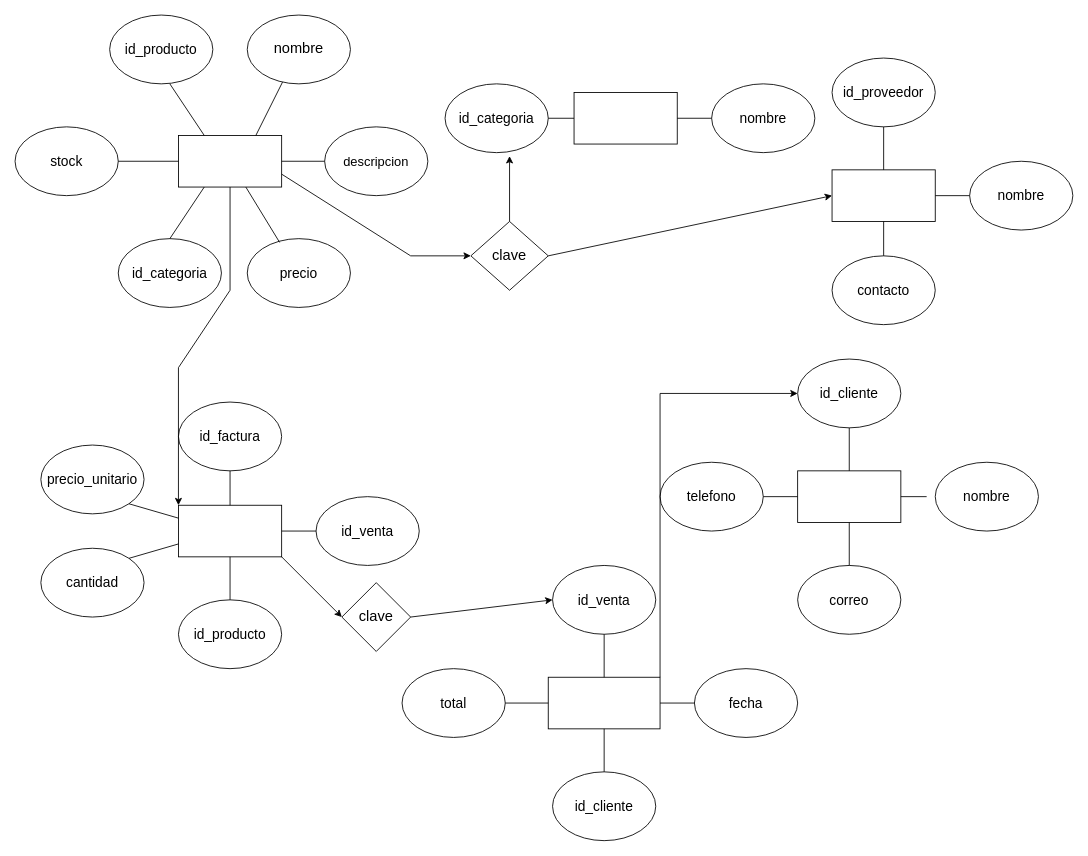
Some shapes in this 1088 by 856 pixel diagram are drawn without their labels. The shapes that lost their labels are listed below. From the top down, each one's box as (x1, y1, x2, y2) in pixels, then its label:
(573, 92, 677, 144): CATEGORIA
(178, 135, 282, 187): PRODUCTO
(831, 169, 935, 221): PROVEEDOR
(797, 470, 901, 522): CLIENTE
(178, 504, 282, 557): FACTURA
(547, 676, 660, 729): VENTA
